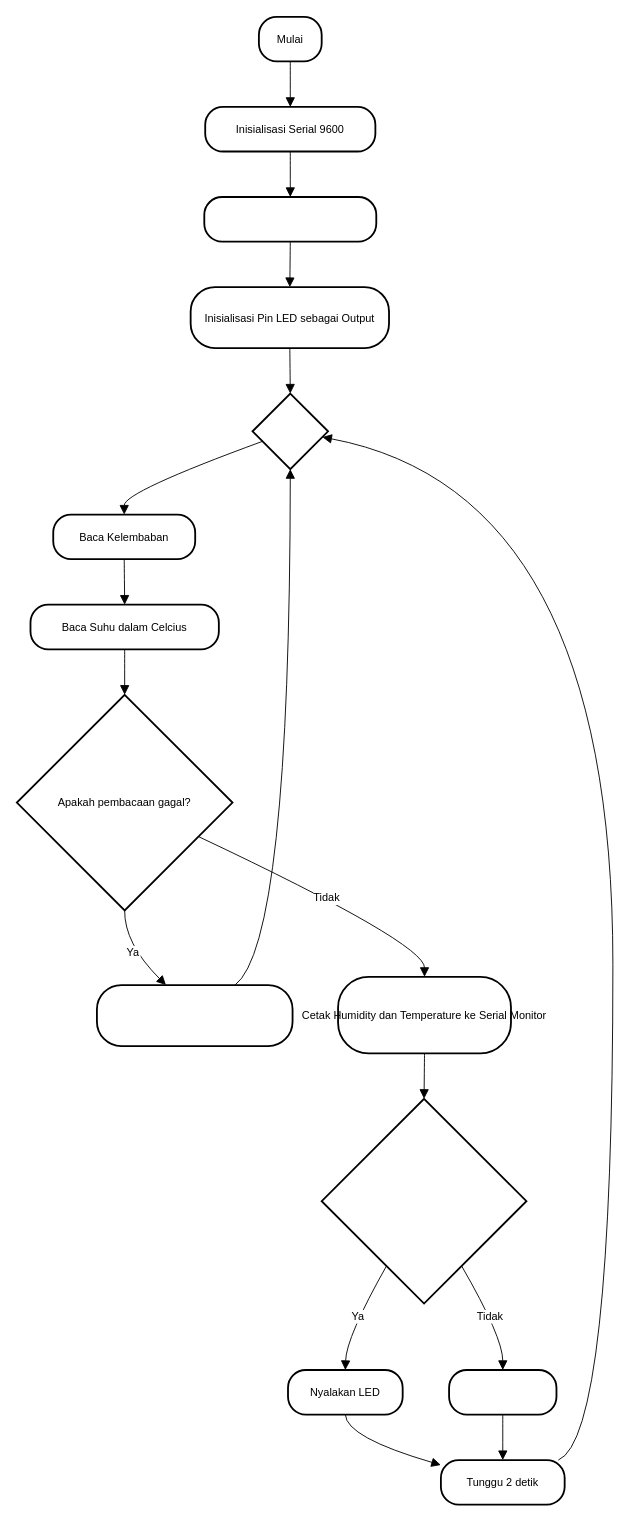
The diagram is 629 pixels wide and 1521 high, and some of its shapes have lost their labels. Each missing label, with the centre of its shape:
"Apakah Suhu >= 27 derajat?" belongs at (x=423, y=1200).
"Cetak Failed to read from DHT sensor!" belongs at (x=194, y=1015).
"Inisialisasi Sensor DHT" belongs at (x=290, y=219).
"Loop" belongs at (x=290, y=431).
"Matikan LED" belongs at (x=502, y=1392).
